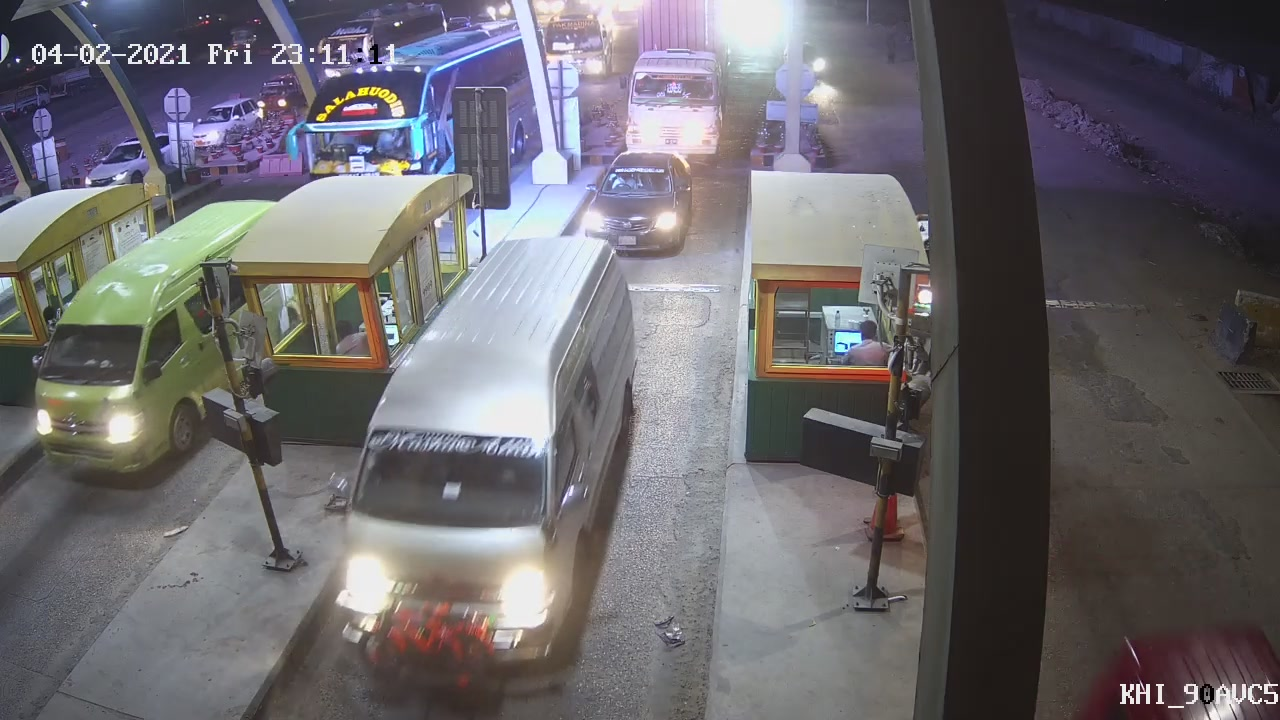F2: (330, 235, 643, 676)
